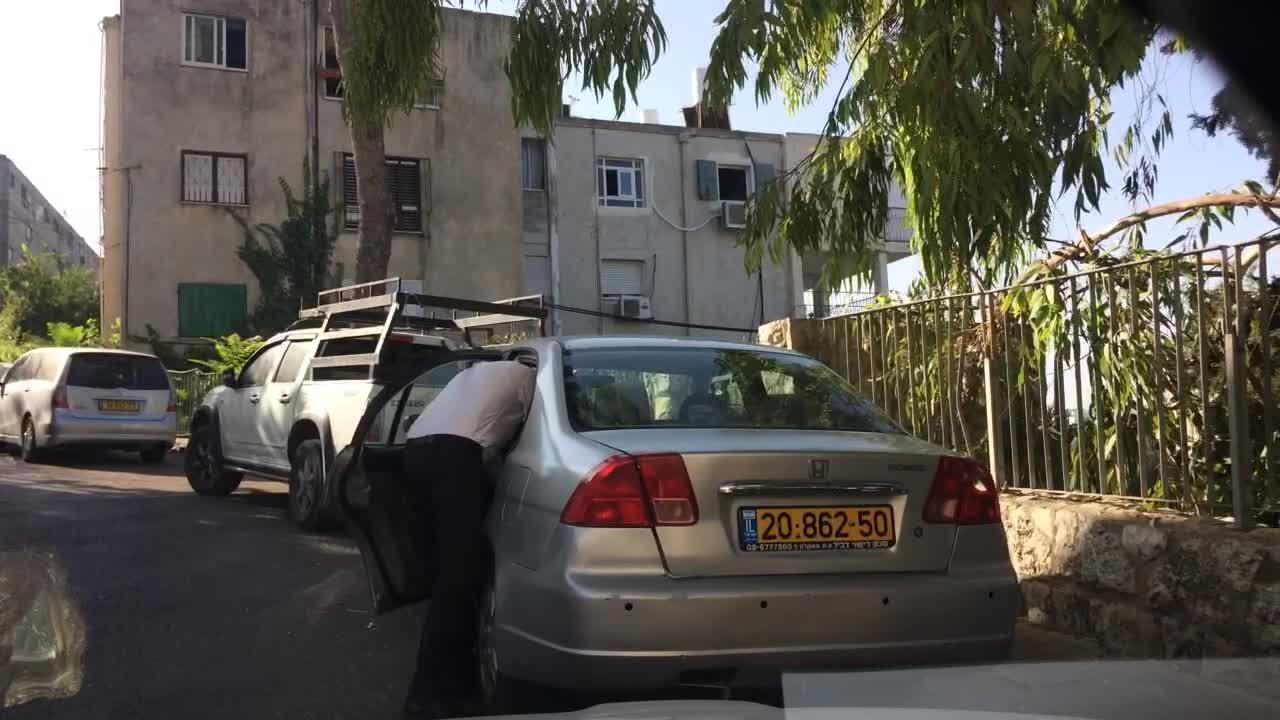Honda: (798, 447, 845, 485)
